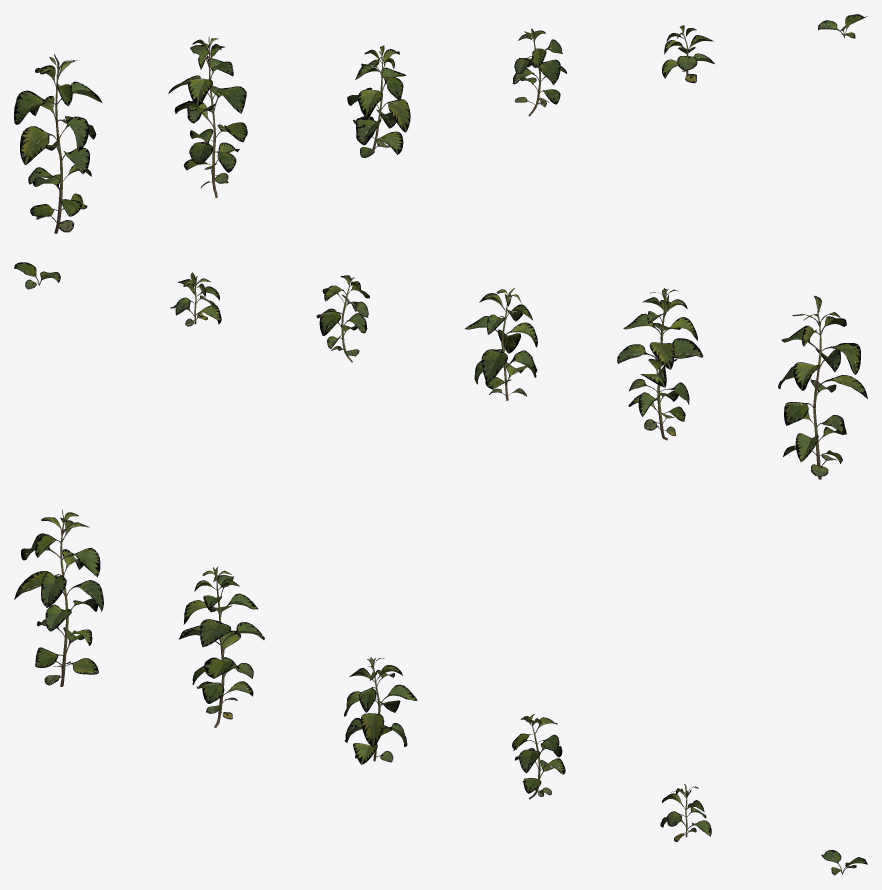
Rendered from ph_nettle_plant.glb.
The picture shows the model from 3 angles, top to bottom: view 1: azimuth 30°, elevation 25°; view 2: azimuth 150°, elevation 25°; view 3: azimuth 330°, elevation 25°; orthographic projection.
Visible parts, largest first — view 1: ph_nettle_plant; view 2: ph_nettle_plant; view 3: ph_nettle_plant.
Boxes of the visible parts, left/top/right/bottom form: ph_nettle_plant: left=14, top=14, right=867, bottom=233; ph_nettle_plant: left=14, top=262, right=867, bottom=479; ph_nettle_plant: left=14, top=509, right=867, bottom=875.
Bounding box in the file's own units: 1.08 × 0.2182 × 0.0949.
Materials: 1 (1 with a texture image).
